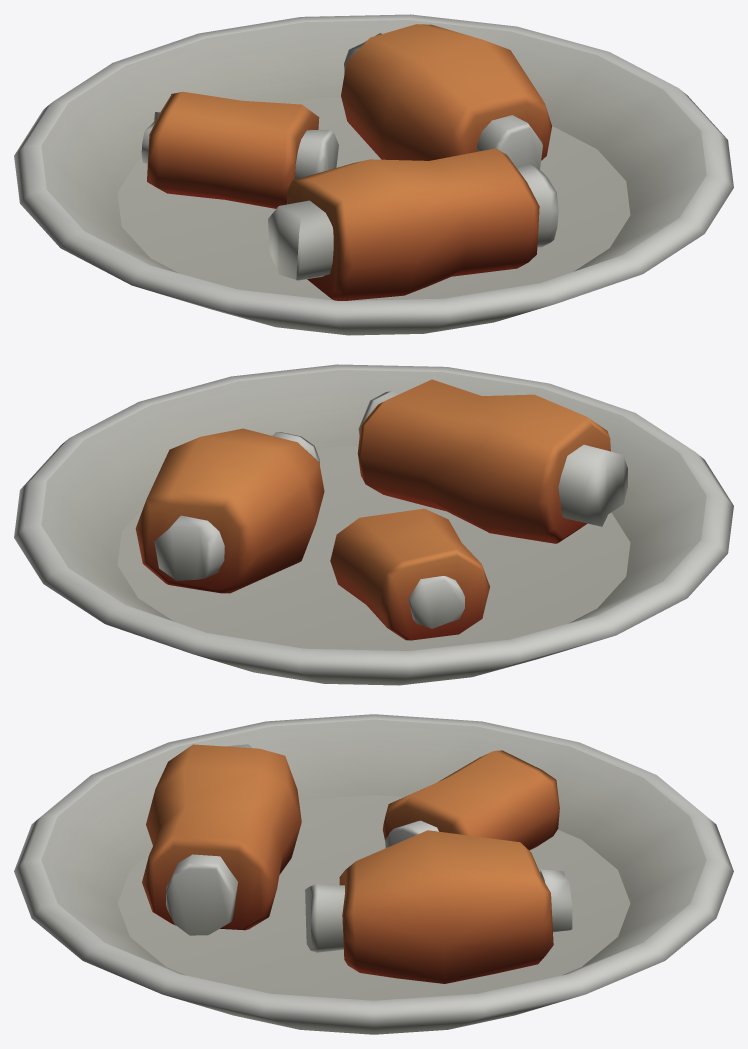
The model's file is comical_meat.glb.
3 renders of one model, top to bottom at view 1: azimuth 30°, elevation 25°; view 2: azimuth 150°, elevation 25°; view 3: azimuth 270°, elevation 25°, orthographic.
Parts seen in each view (by area): view 1: SM_Dish_A.006, SM_Food_Meat_03; view 2: SM_Dish_A.006, SM_Food_Meat_03; view 3: SM_Dish_A.006, SM_Food_Meat_03.
Boxes of the visible parts, left/top/right/bottom form: SM_Dish_A.006: left=14, top=14, right=733, bottom=335; SM_Food_Meat_03: left=141, top=24, right=558, bottom=300; SM_Dish_A.006: left=14, top=364, right=733, bottom=685; SM_Food_Meat_03: left=135, top=379, right=627, bottom=640; SM_Dish_A.006: left=14, top=714, right=733, bottom=1034; SM_Food_Meat_03: left=142, top=744, right=572, bottom=983.
Size of the model in its own units: 0.7473 by 0.157 by 0.7473.
1 material, 1 textured.
